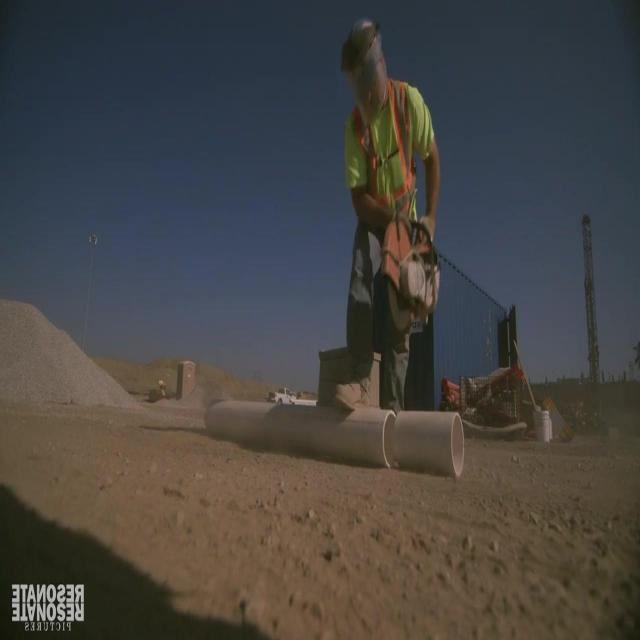Reflective-Jacket: (333, 80, 447, 280)
Safety-Helmet: (332, 7, 392, 85)
